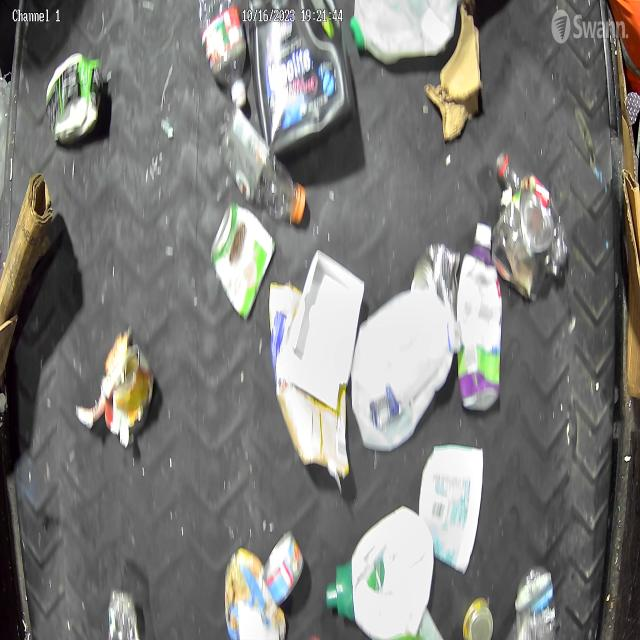can: (209, 198, 278, 324), (491, 186, 556, 304), (101, 339, 157, 442), (262, 528, 306, 609), (410, 240, 462, 297), (462, 593, 494, 640)
milk_jug: (350, 286, 462, 453), (325, 503, 435, 640), (348, 0, 459, 67)
non_white_jug: (247, 0, 357, 165)
plastic_bottle: (216, 104, 308, 226), (197, 0, 249, 110)
